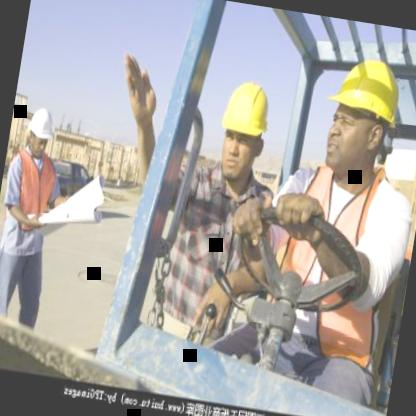helmet: (311, 45, 411, 191), (209, 69, 280, 186), (22, 99, 58, 158)
